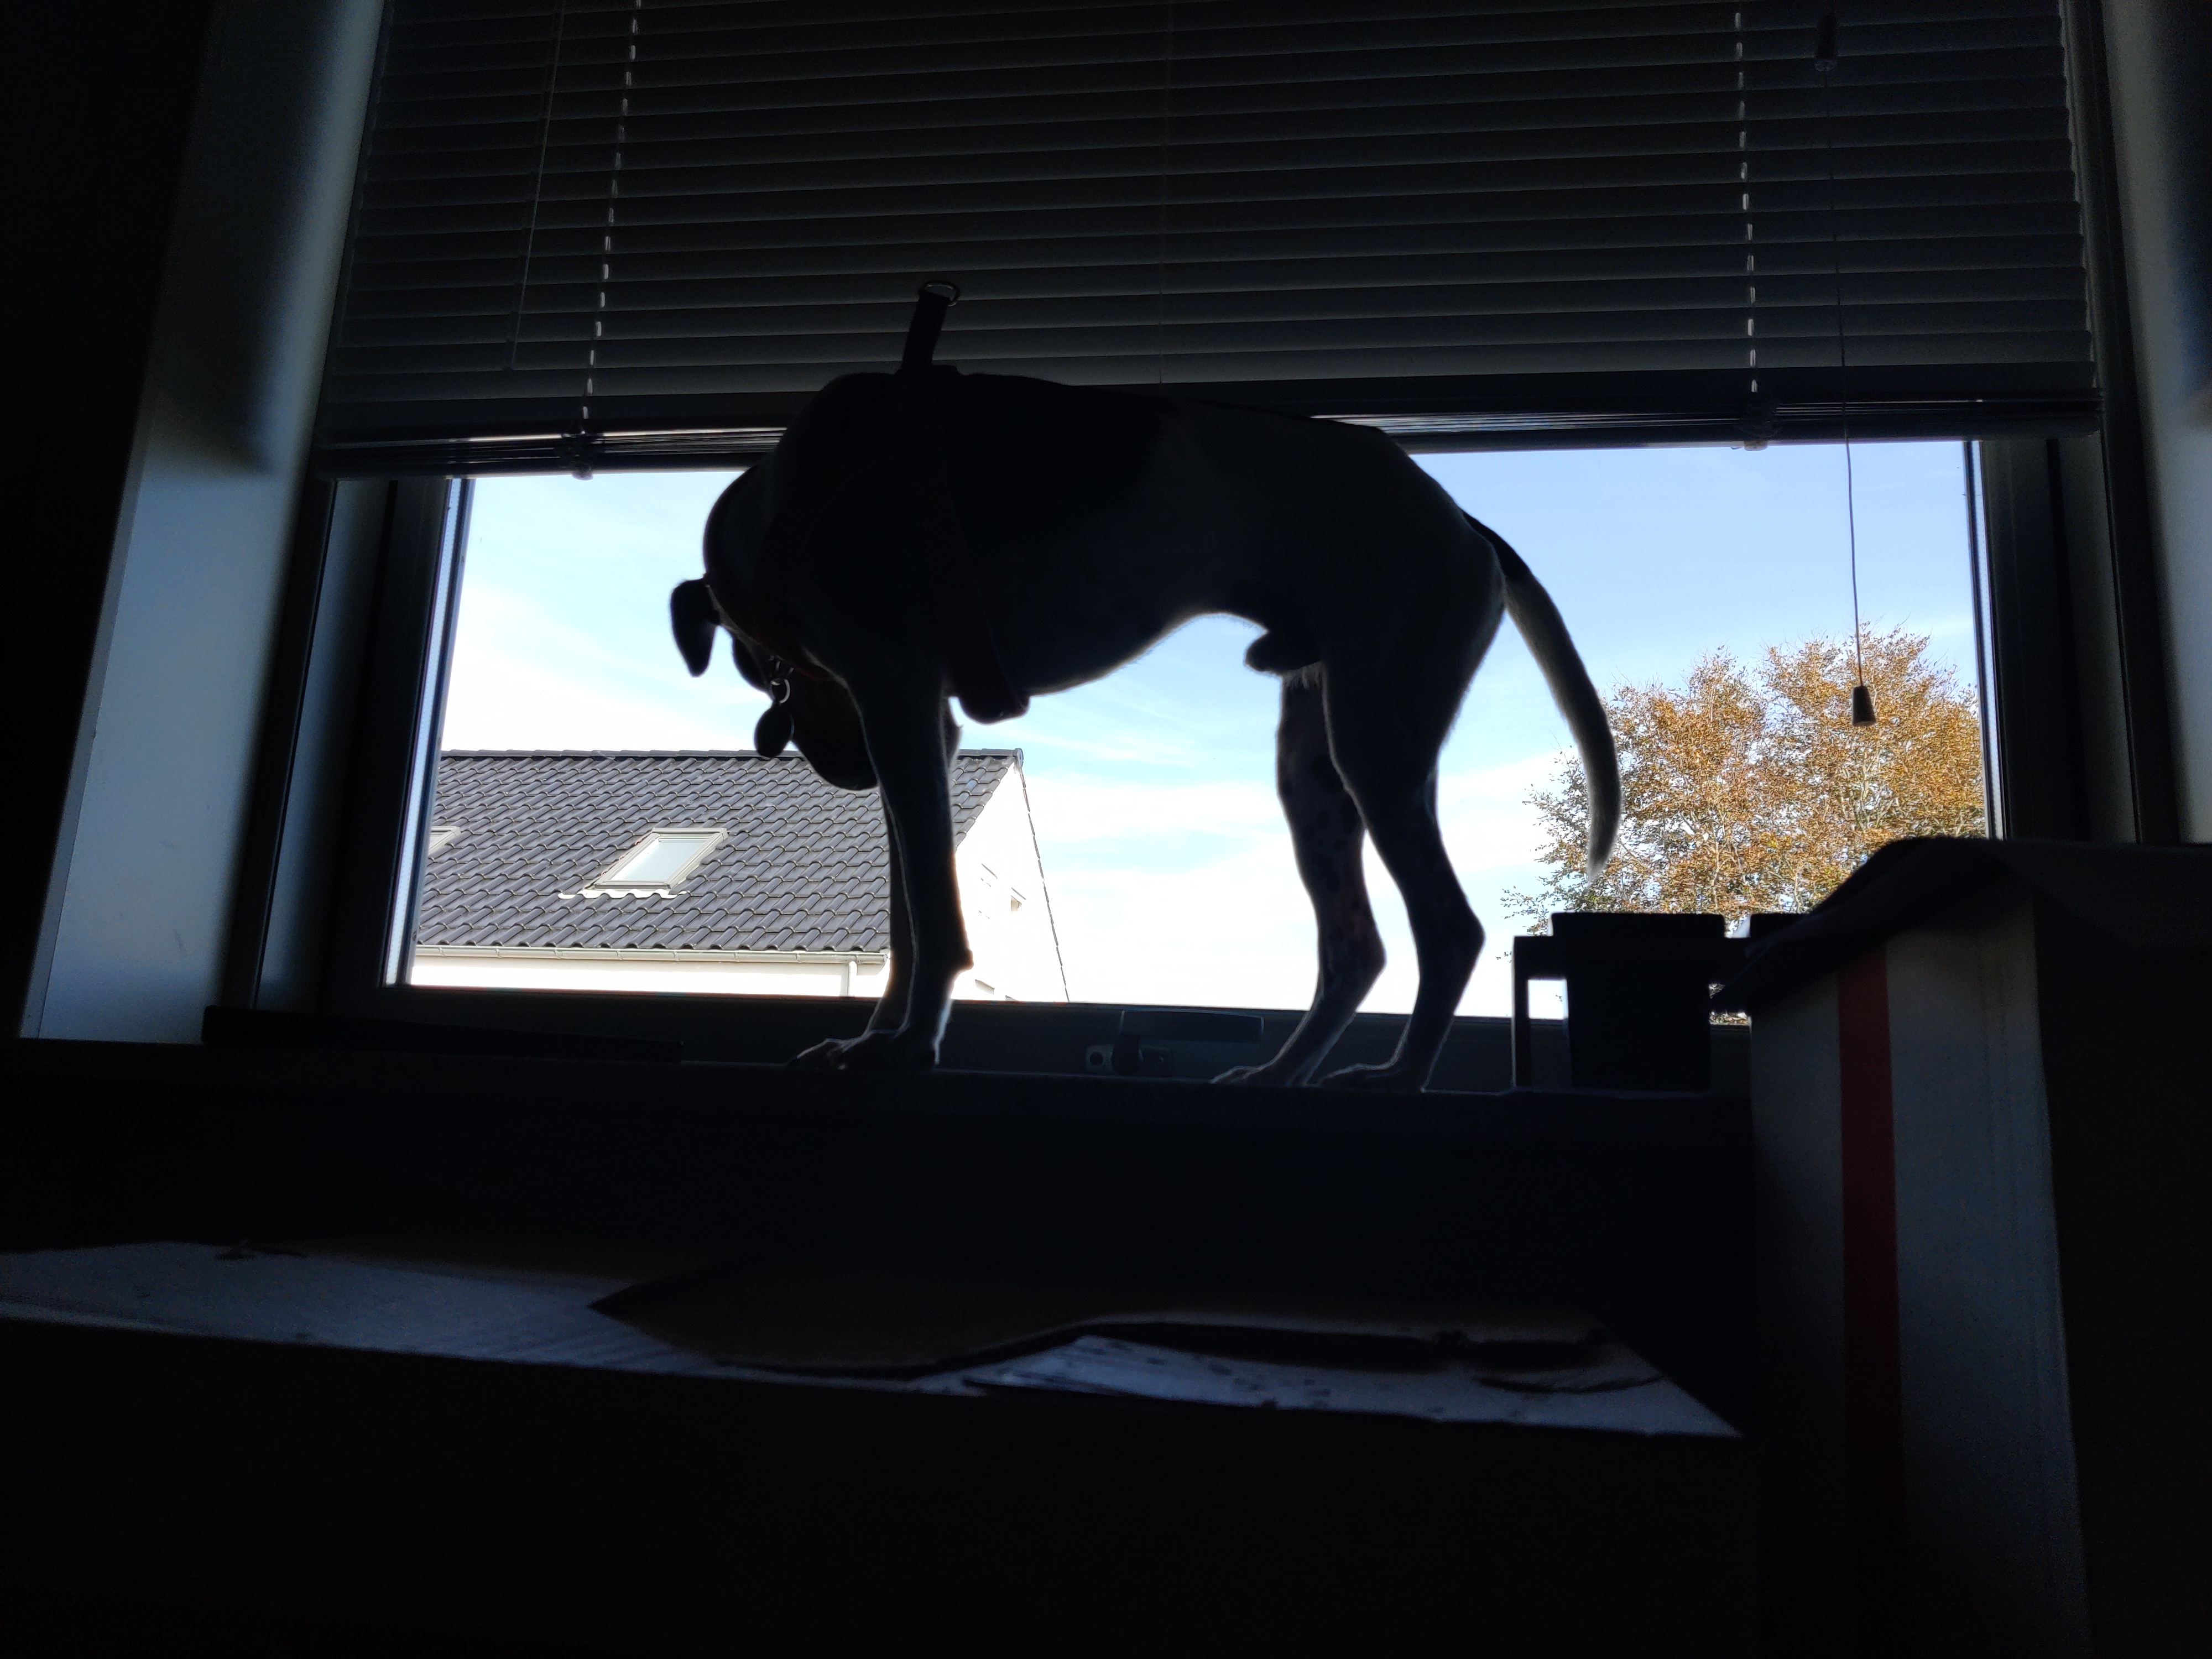Dog: (665, 354, 1630, 1094)
